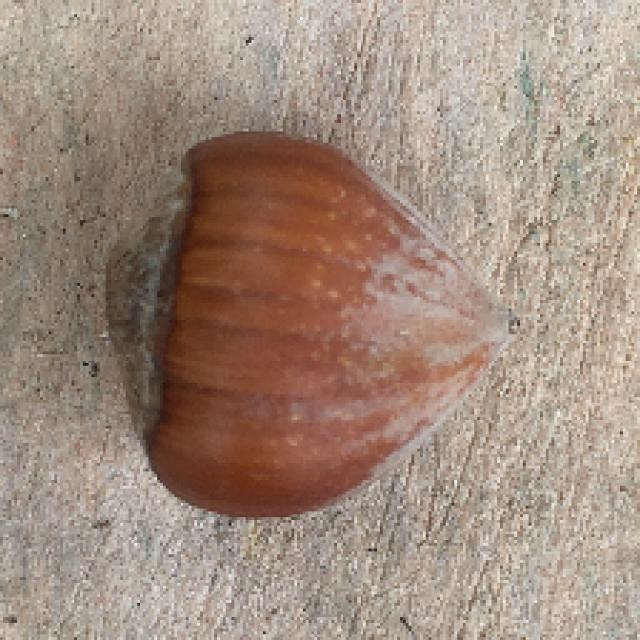qualityHazelnut: (104, 130, 522, 520)
